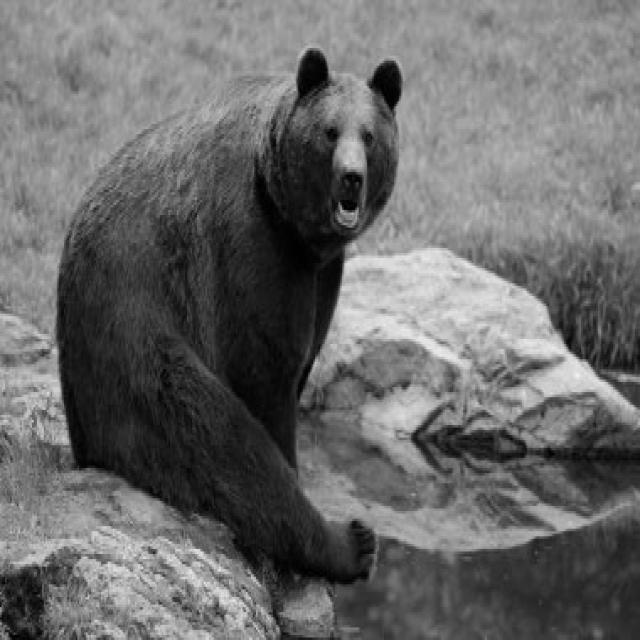Animal: (58, 49, 402, 581)
